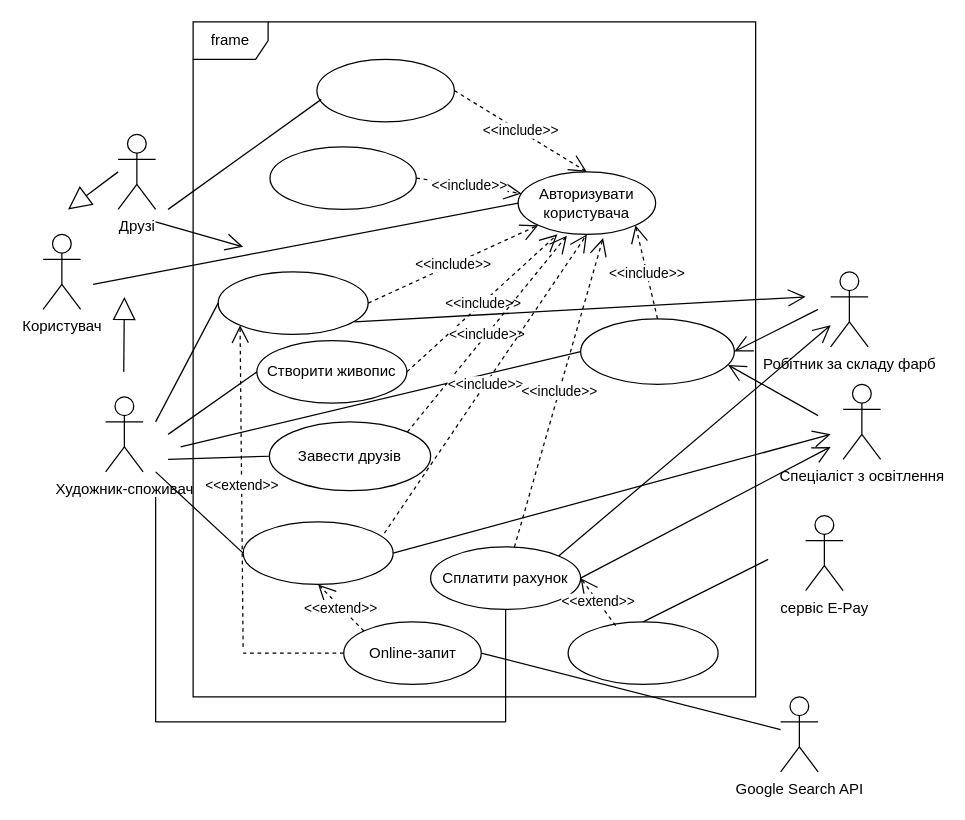
The diagram is 965 pixels wide and 820 high, and some of its shapes have lost their labels. Here are the shapes that lost their labels. From the top down, the centre of each, then its label:
At point 385,90: "Оцінити живопис".
At point 342,177: "Створити замолення".
At point 292,302: "Замовити потрібні фарби".
At point 656,351: "Виконати вимогу".
At point 317,552: "Сформувати вимоги з освітлення".
At point 642,652: "E-сплата".
